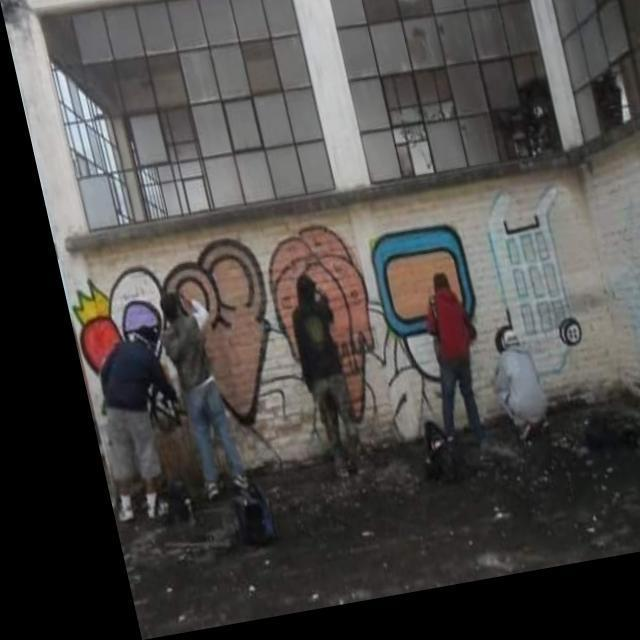-: (142, 243, 274, 445), (244, 234, 366, 434), (456, 200, 576, 402), (54, 258, 172, 458), (345, 235, 475, 398)
